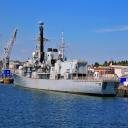Fragata: (12, 20, 122, 99)
